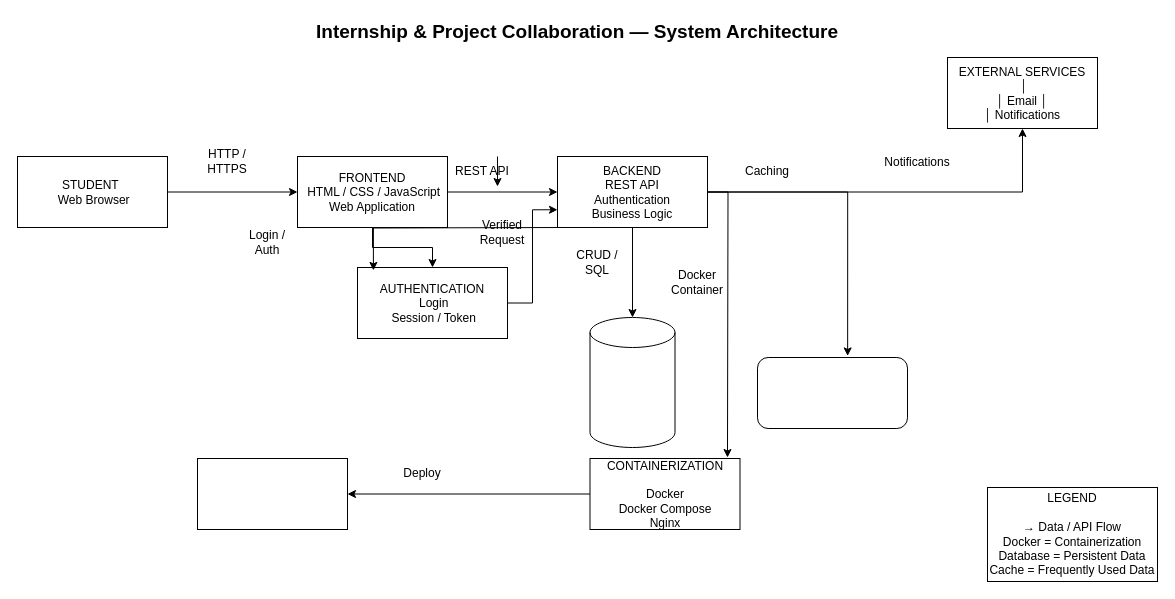
Image size: 1175x599. Some labels were removed from this diagram. The box of each missing label's shape, as (x1, y1, x2, y2) in pixels:
CACHE Redis Session Data Frequently Used Data: (756, 356, 908, 428)
DATABASE User Data Internships Projects Applications: (589, 316, 675, 448)
DEPLOYMENT / INFRA Web Server Cloud / Hosting: (196, 458, 348, 530)
